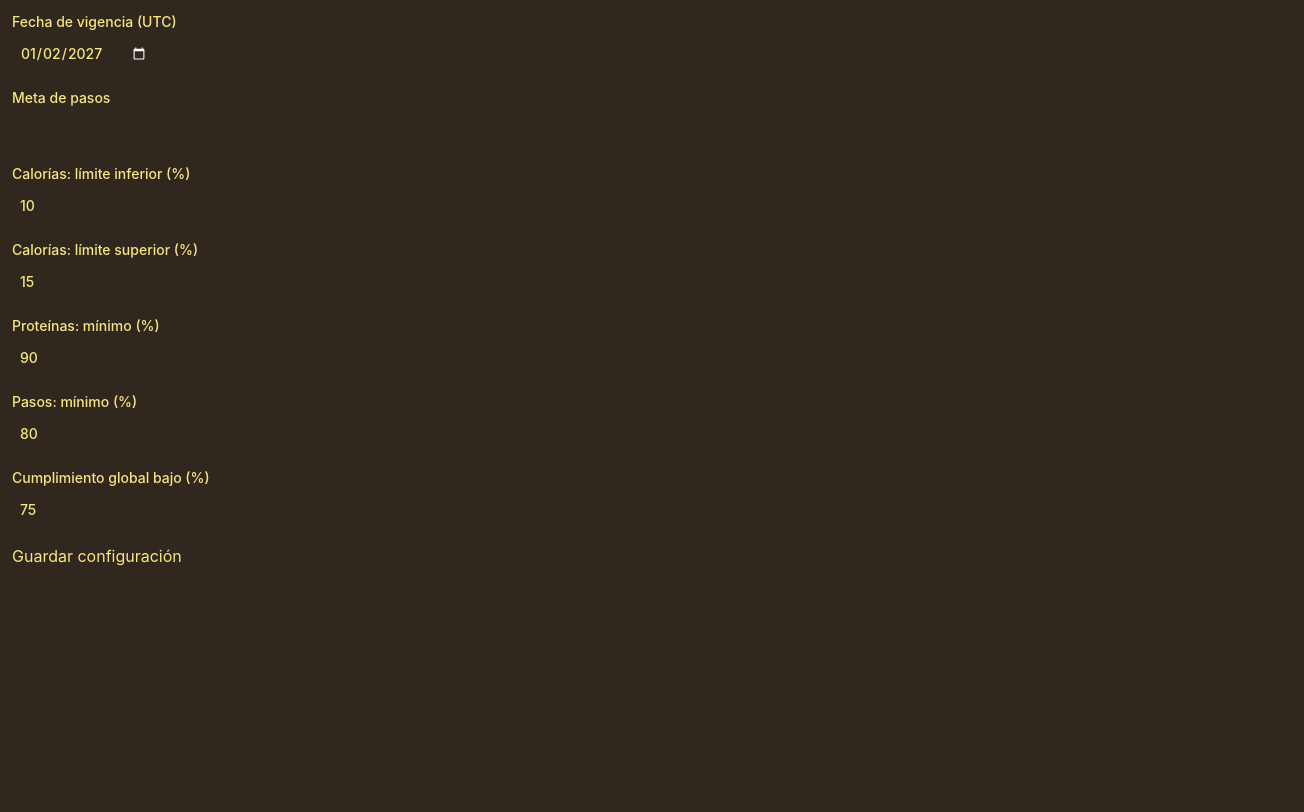
Test: AdherenceConfigEditor › loads the selected UTC tomorrow and sends exact GET version and nullable opt-out
Expected: the date field labelled "Fecha de vigencia (UTC)" holds "2027-01-02", [12, 36, 156, 72]
Replace the text in the number field labelled "Calorías: límite inferior (%)" with "12": x=652, y=206 [12, 188, 1292, 224]
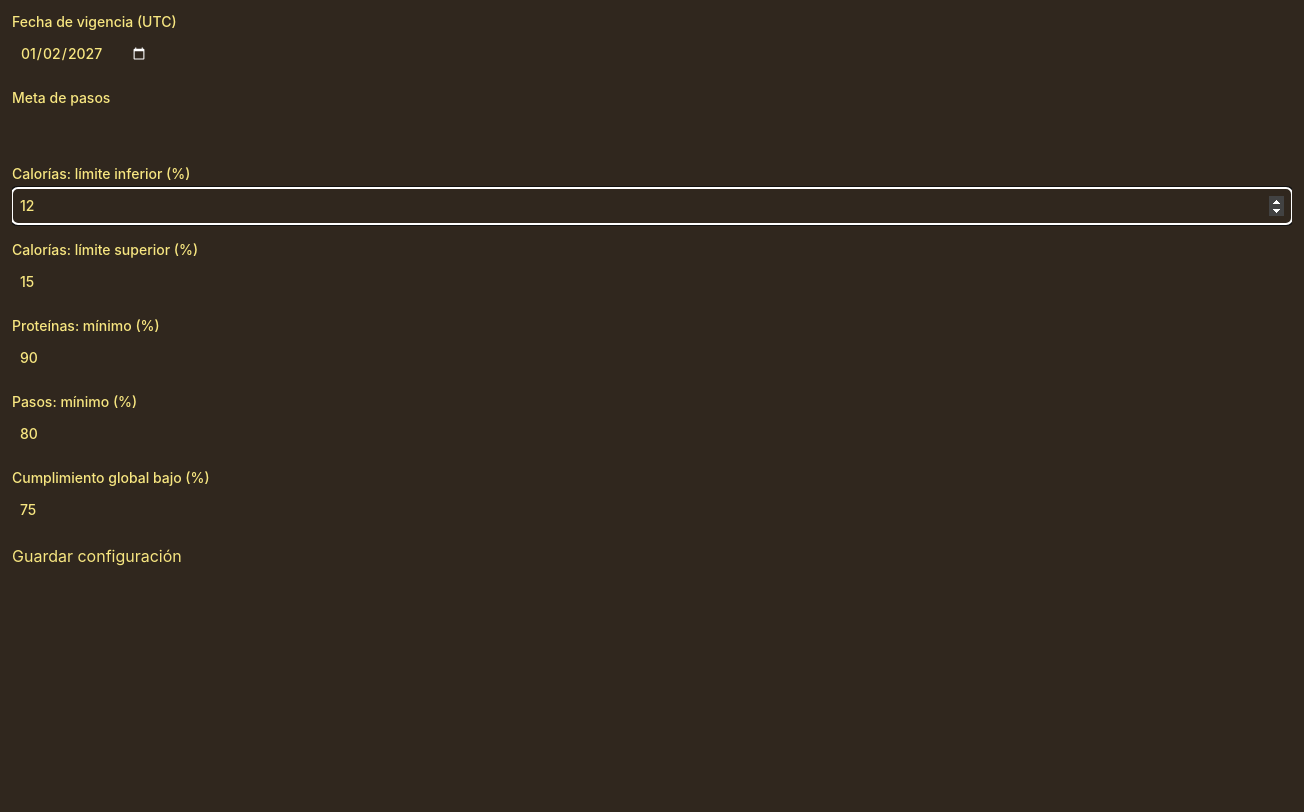
Click the button "Guardar configuración": x=97, y=556 [12, 544, 182, 568]
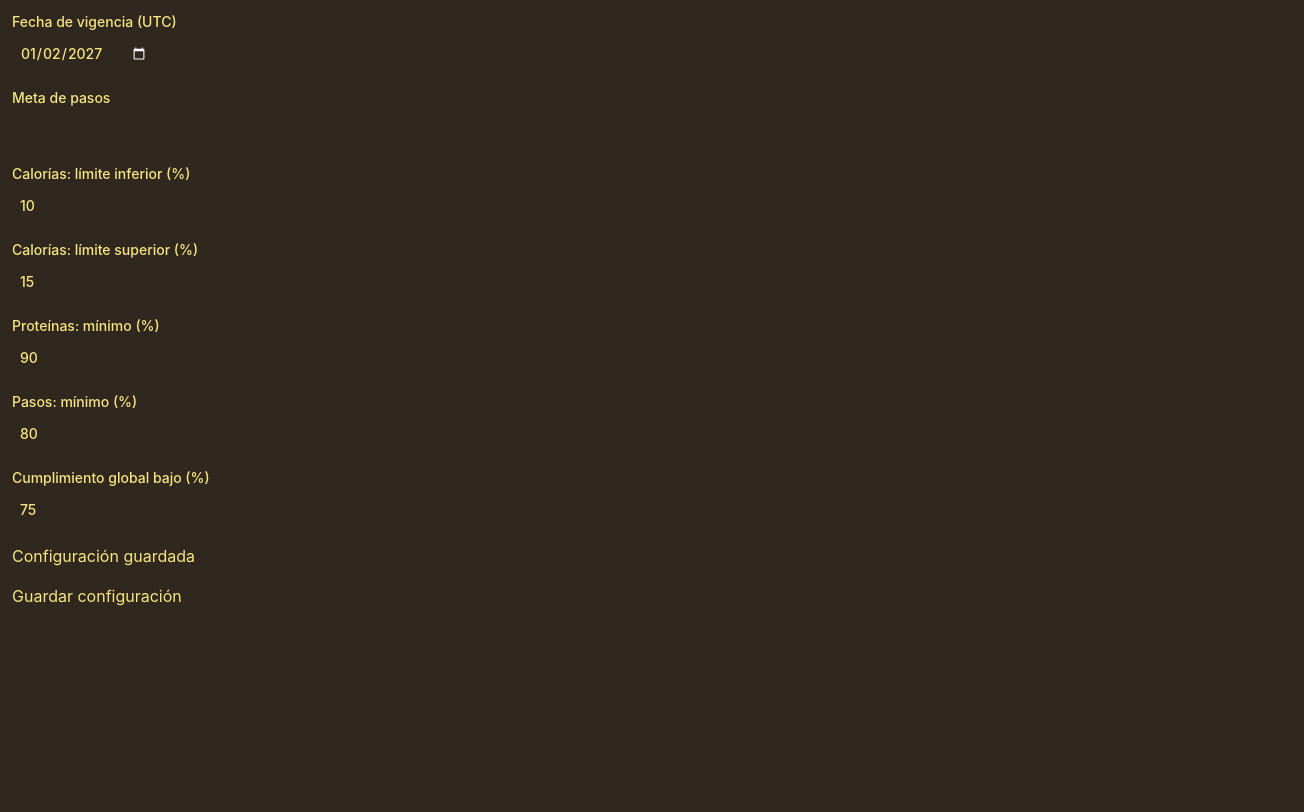
Now the button "Guardar configuración" is enabled, box [12, 584, 182, 608]
Now the text "Configuración guardada" is shown, box [12, 546, 195, 566]
